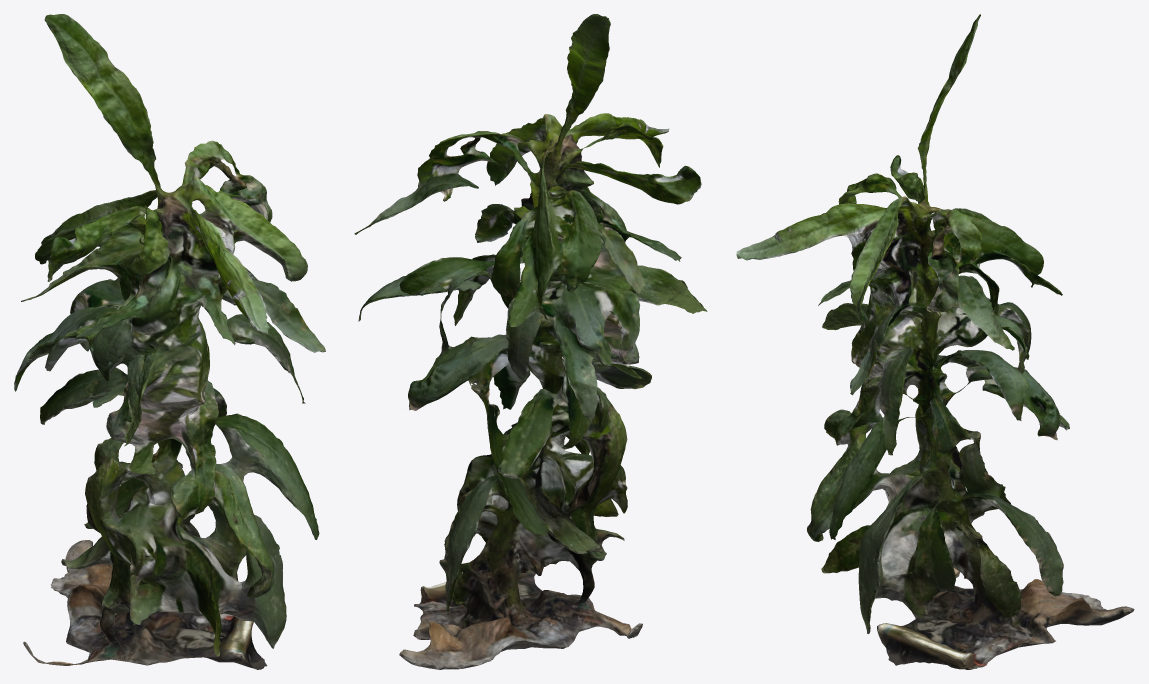
Rendered from lea.glb.
The picture shows the model from 3 angles, left to right: view 1: azimuth 30°, elevation 25°; view 2: azimuth 150°, elevation 25°; view 3: azimuth 270°, elevation 25°; orthographic projection. The views are drawn at different scales.
Bounding box in the file's own units: 0.412 × 0.9053 × 0.565.
1 material, 1 textured.
